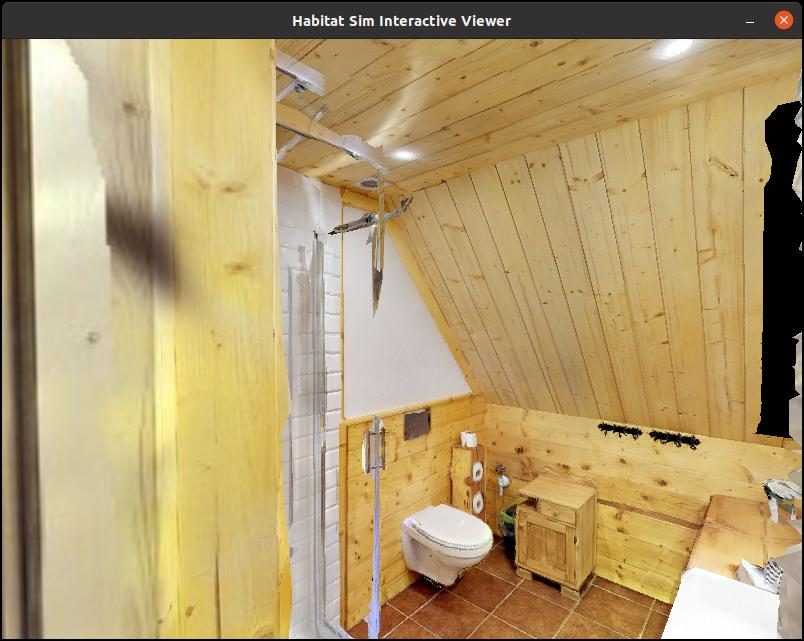toilet: (394, 491, 501, 598)
